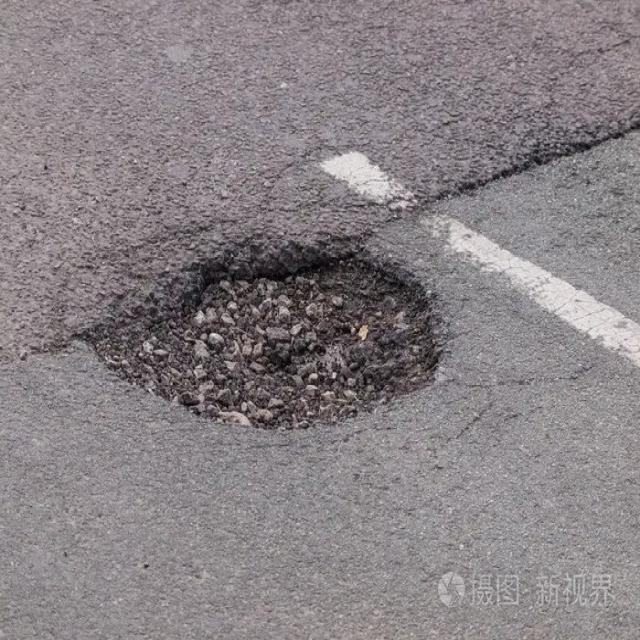Pothole: (85, 250, 446, 429)
